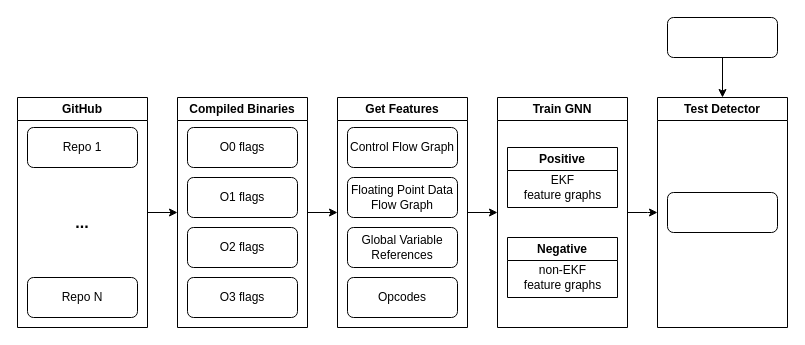
The diagram is 805 pixels wide and 345 high, and some of its shapes have lost their labels. The centre of each missing label's shape, as x and y in pixels:
"Ardupilot Binary" belongs at point (722, 37).
"Compare GNN embeddings" belongs at point (722, 212).
